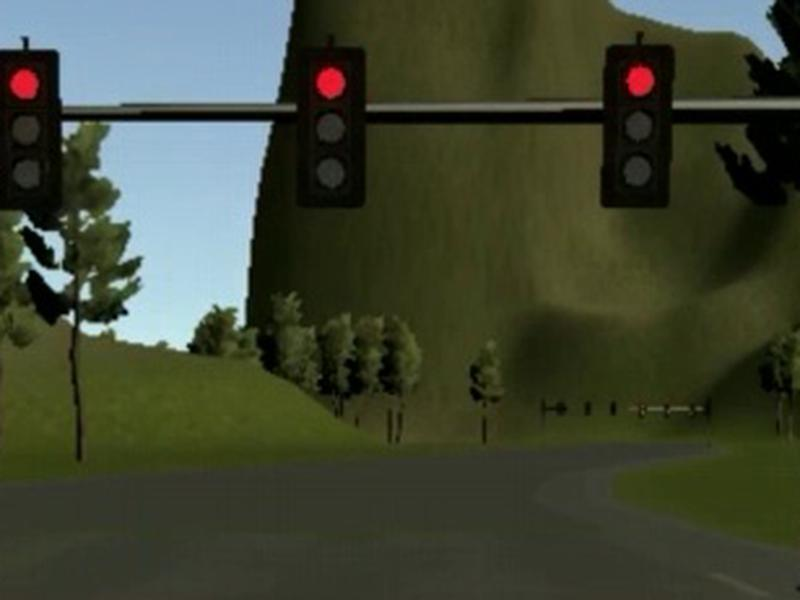Red: (600, 44, 675, 208), (295, 47, 365, 209), (1, 48, 62, 211)
